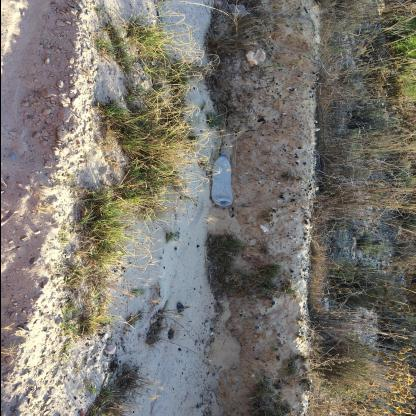plastik: (210, 152, 232, 206)
